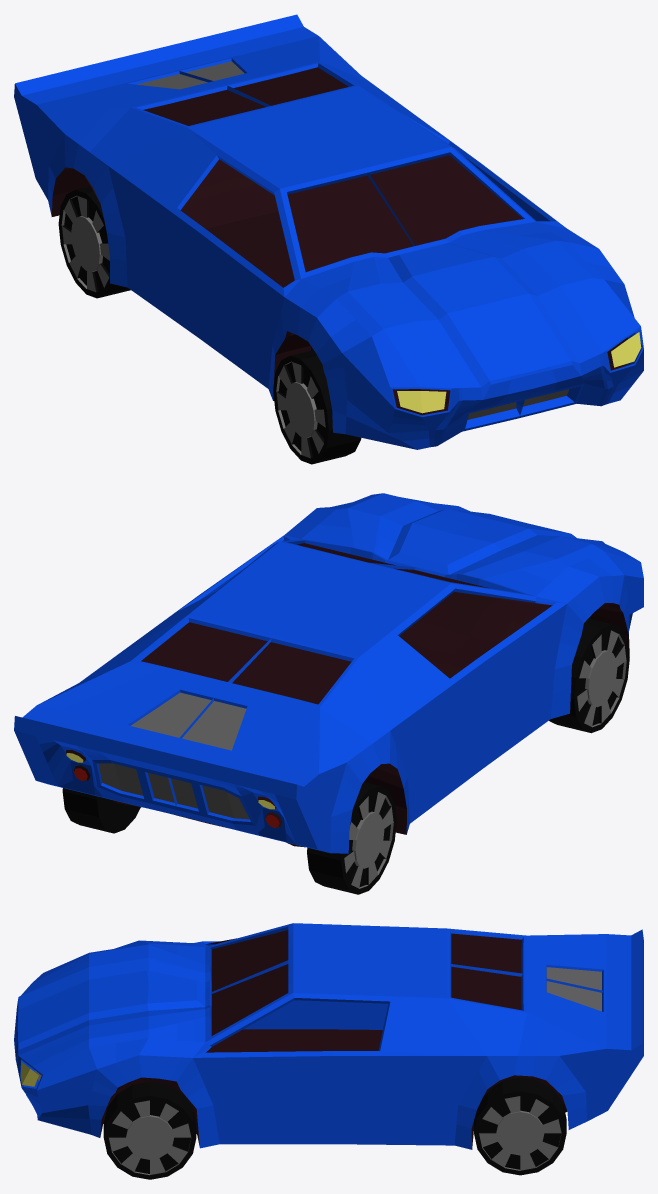
Rendered from Auto2.fbx.
The picture shows the model from 3 angles, top to bottom: view 1: azimuth 30°, elevation 25°; view 2: azimuth 150°, elevation 25°; view 3: azimuth 270°, elevation 25°; orthographic projection. The views are drawn at different scales.
Visible parts, largest first — view 1: Cubo, RuedaFrontalDerecha, RuedaTraseraDerecha; view 2: Cubo, RuedaTraseraDerecha, RuedaFrontalDerecha, RuedaFrontalIzquierda.001; view 3: Cubo, RuedaFrontalIzquierda, RuedaFrontalIzquierda.001.
Boxes of the visible parts, x1,y1,x2,y2 form: Cubo: (14, 14, 643, 449); RuedaFrontalDerecha: (273, 350, 361, 464); RuedaTraseraDerecha: (58, 186, 130, 298); Cubo: (14, 493, 643, 853); RuedaTraseraDerecha: (307, 782, 396, 894); RuedaFrontalDerecha: (549, 618, 629, 733); RuedaFrontalIzquierda.001: (62, 788, 140, 833); Cubo: (14, 923, 643, 1149); RuedaFrontalIzquierda: (103, 1082, 196, 1179); RuedaFrontalIzquierda.001: (474, 1077, 566, 1175).
Size of the model in its own units: 125 by 76.34 by 271.
